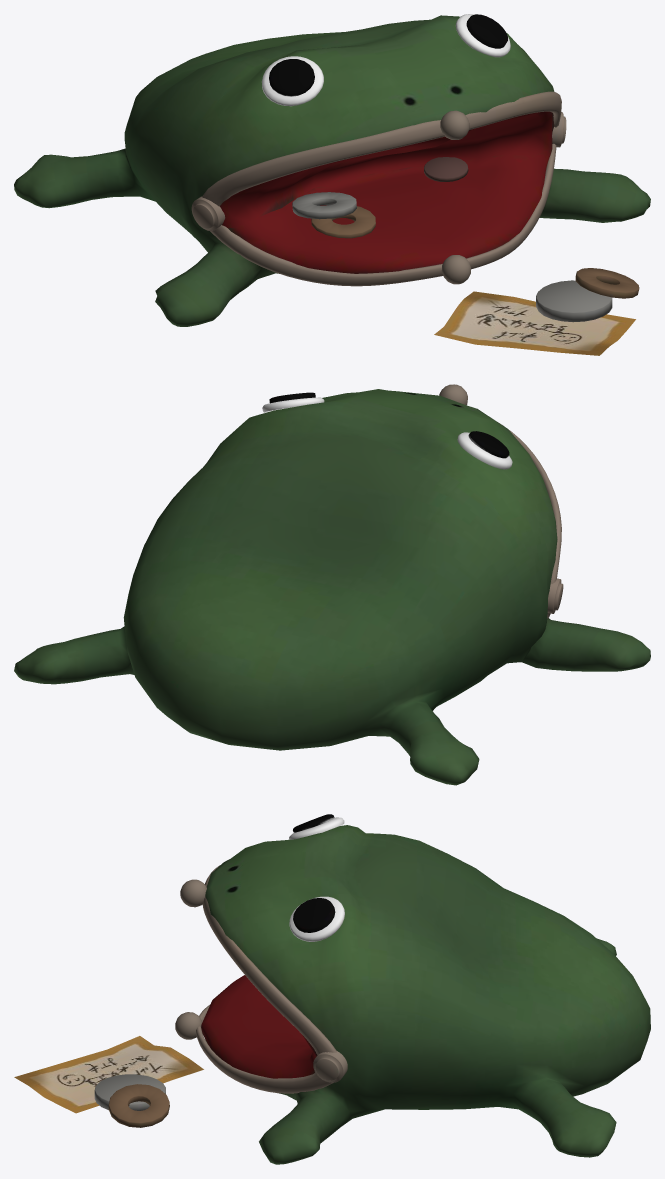
File: wallet.glb
3 views of the same model, one above another, from view 1: azimuth 30°, elevation 25°; view 2: azimuth 150°, elevation 25°; view 3: azimuth 270°, elevation 25° (orthographic). The views are drawn at different scales.
Visible parts, largest first — view 1: defaultMaterial; view 2: defaultMaterial; view 3: defaultMaterial.
Boxes of the visible parts, x1,y1,x2,y2 form: defaultMaterial: (14,14,650,355); defaultMaterial: (14,384,650,785); defaultMaterial: (14,814,650,1164).
Bounding box in the file's own units: 157 × 68.06 × 192.
Materials: 1 (1 with a texture image).
